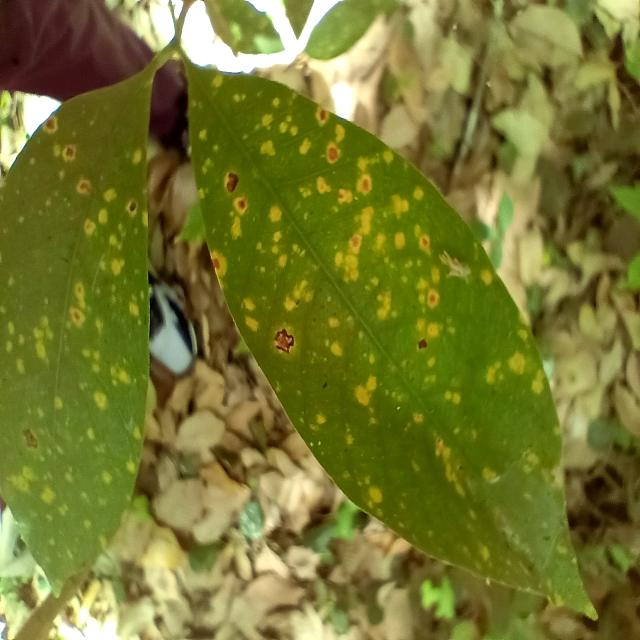Colletotrichum: (226, 172, 238, 192), (418, 339, 427, 349)
